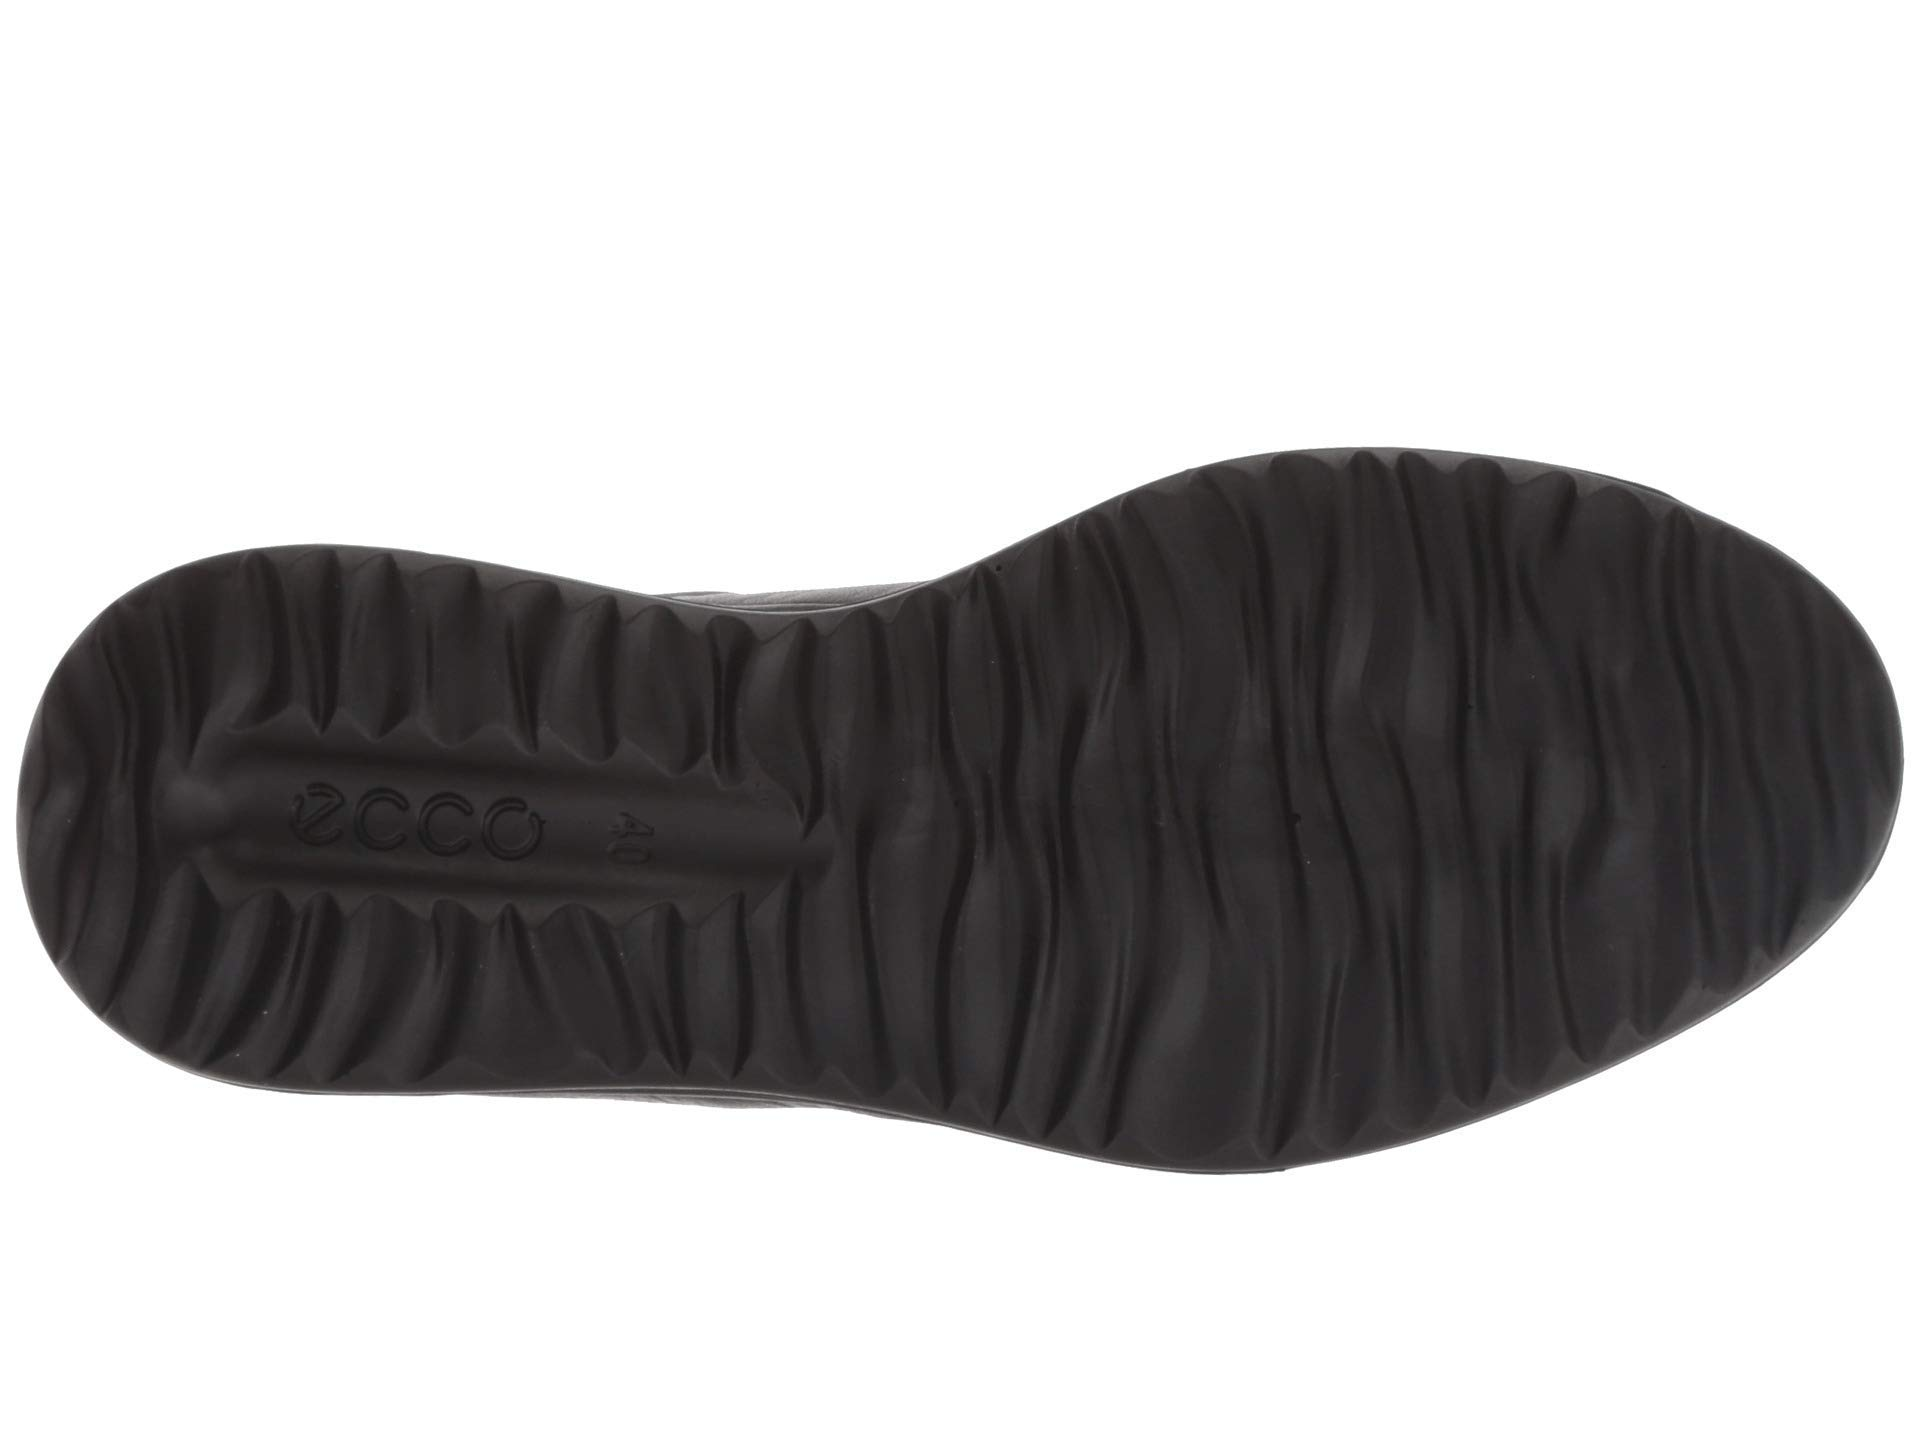circle: (245, 743, 584, 867)
line: (930, 557, 1736, 994)
text: (245, 743, 584, 867), (596, 788, 683, 888)
